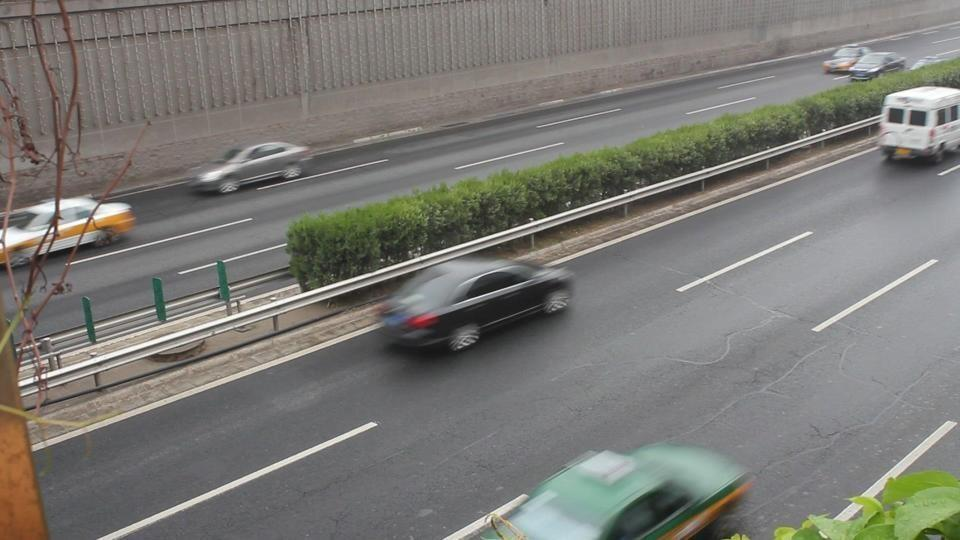car: (464, 441, 757, 538), (377, 257, 576, 355), (1, 197, 137, 251), (185, 140, 314, 195), (846, 52, 907, 81), (821, 44, 866, 75)
